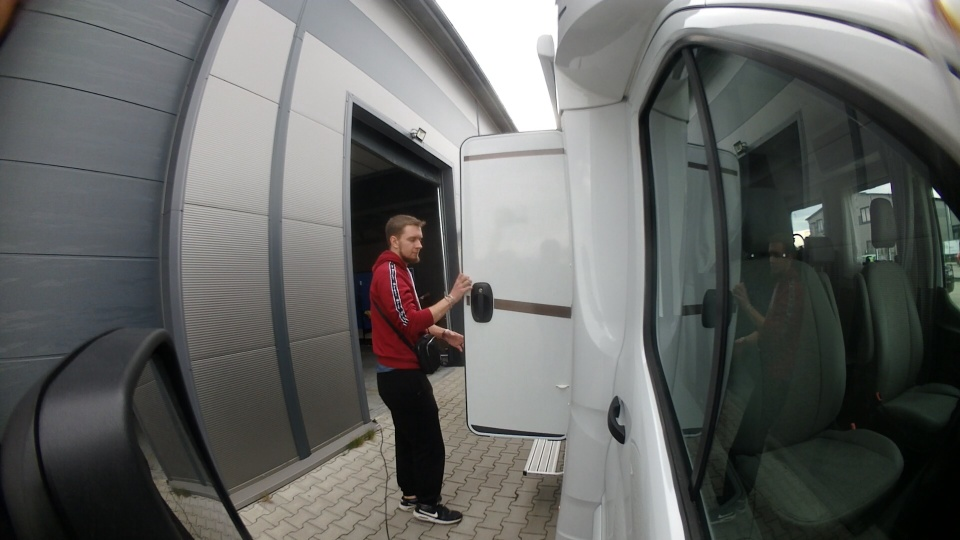door_front: (451, 125, 579, 446)
step_front: (521, 432, 577, 477)
